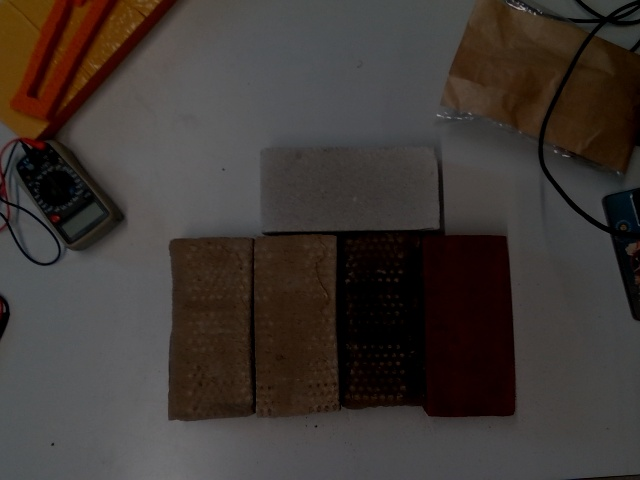brick: (169, 237, 252, 418), (256, 235, 338, 416), (262, 145, 438, 228), (428, 237, 508, 415), (345, 231, 419, 407)
